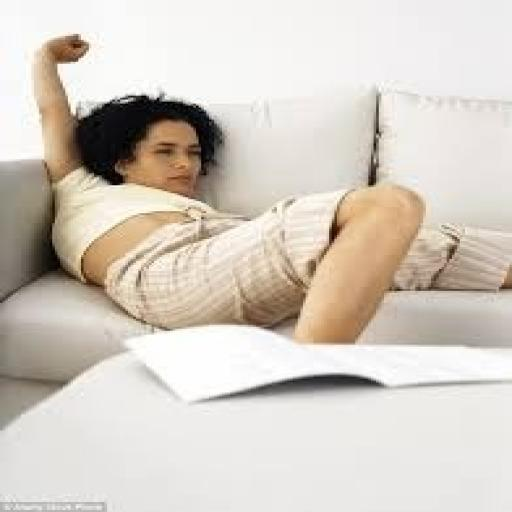sitting: (24, 30, 510, 347)
